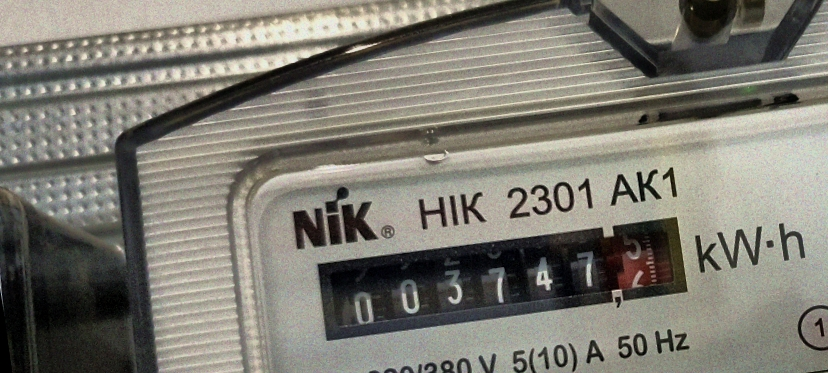0: (396, 274, 422, 315), (350, 288, 377, 325)
3: (442, 267, 465, 306)
4: (530, 252, 555, 294)
5: (621, 230, 644, 261)
6: (626, 266, 647, 289)
7: (573, 246, 600, 289), (486, 263, 510, 305)
screen: (305, 198, 705, 359)
